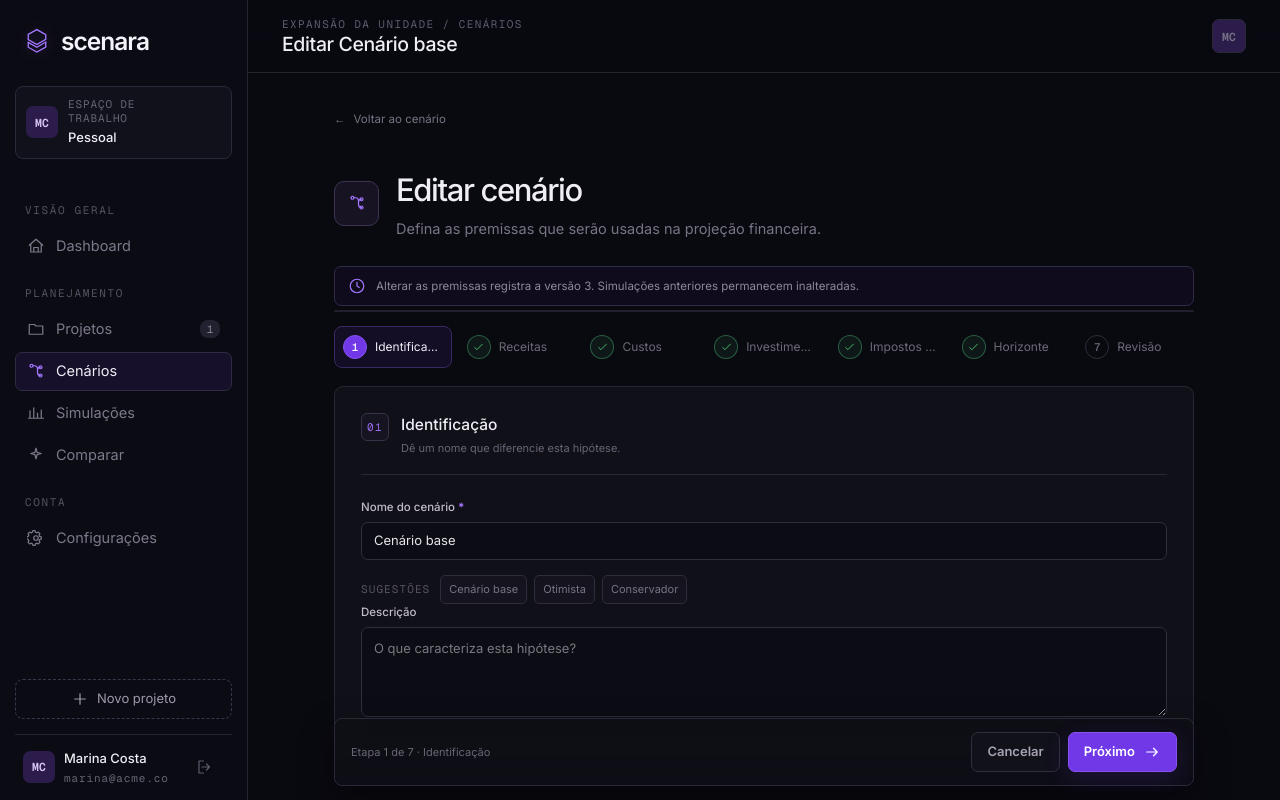
app smoke test (API simulada) › assistente de cenário: na edição todas as etapas ficam acessíveis
The width and height of the screenshot is (1280, 800).
Step 1. Click the button "7 Revisão" → (1135, 347), box [1076,326,1194,368]
(page scrolled)
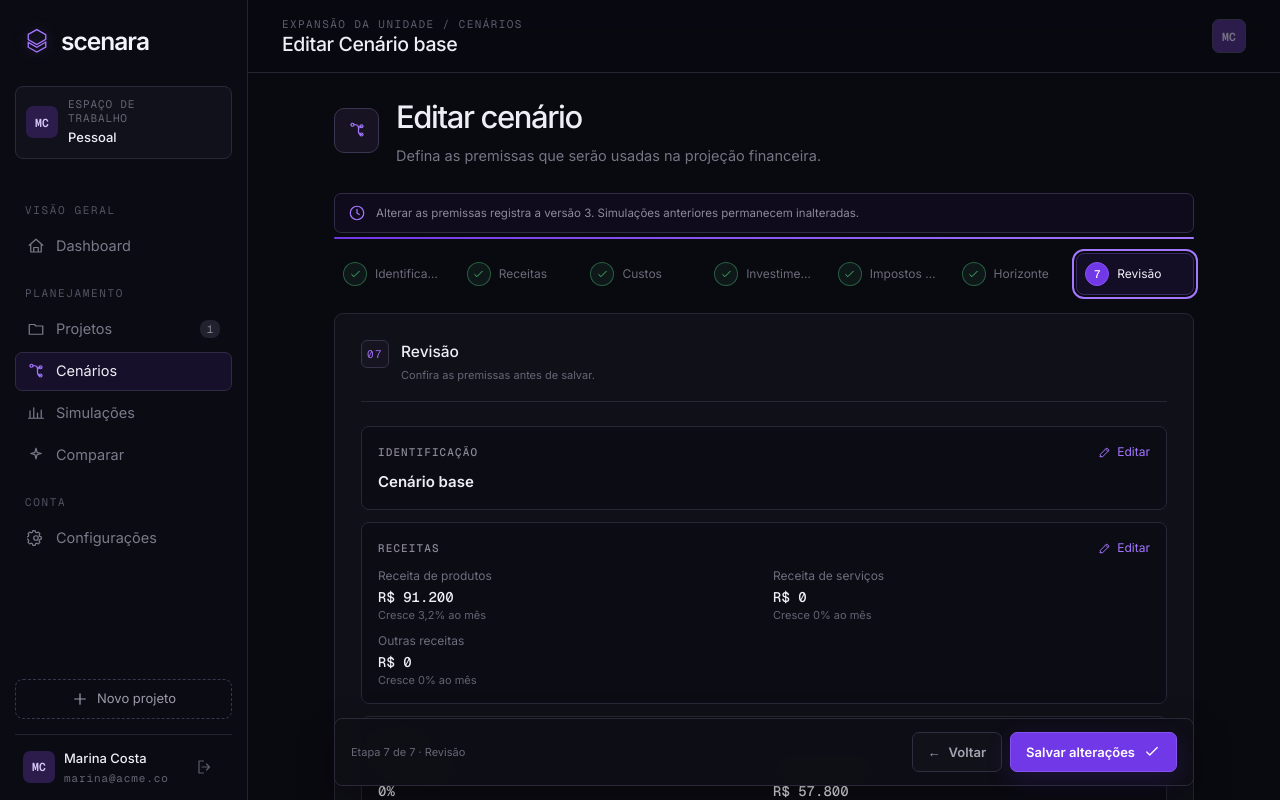
expect the text "Cenário base" is shown: met, box [378,472,474,491]
expect the button "Salvar alterações" is shown: met, box [1010,732,1177,772]
